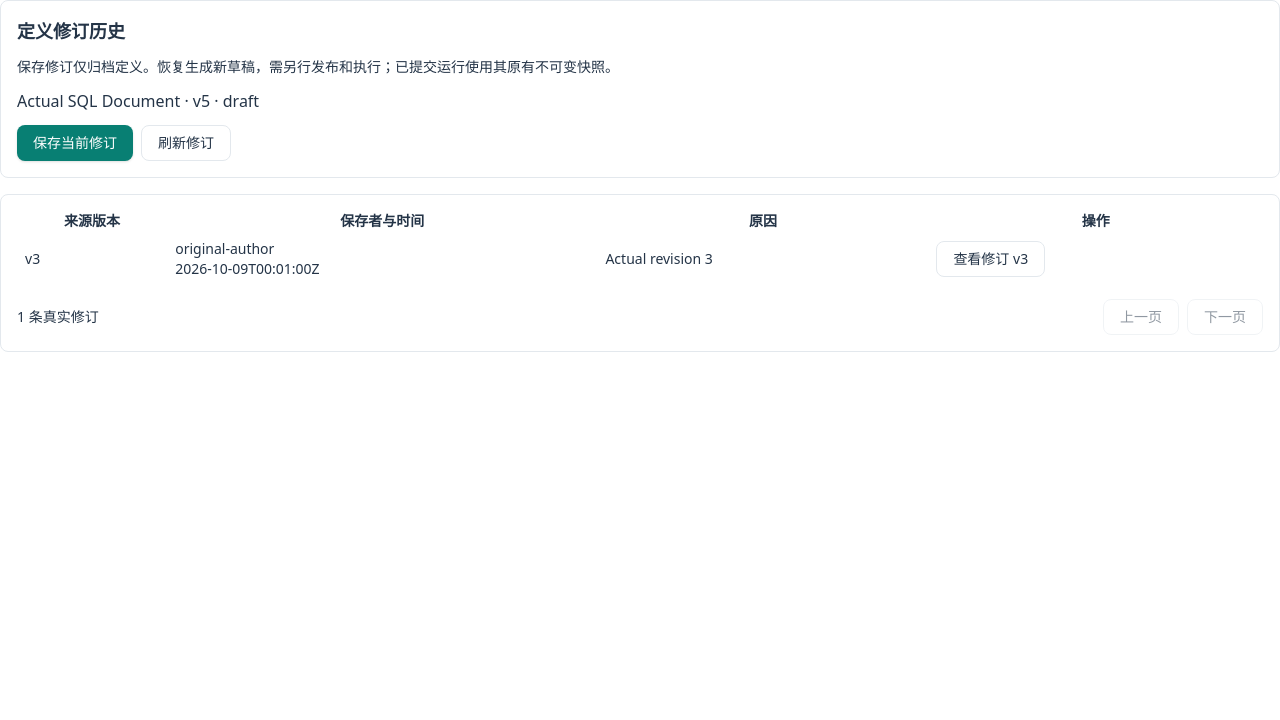
Test: actual development revision interactions › closing a pending save never reopens its dialog or exposes a late receipt
This screenshot has width=1280, height=720.
Expected: the text "Actual SQL Document · v5 · draft" is shown, [17,90,259,112]
Click the button "保存当前修订": click(75, 143) [17,125,133,161]
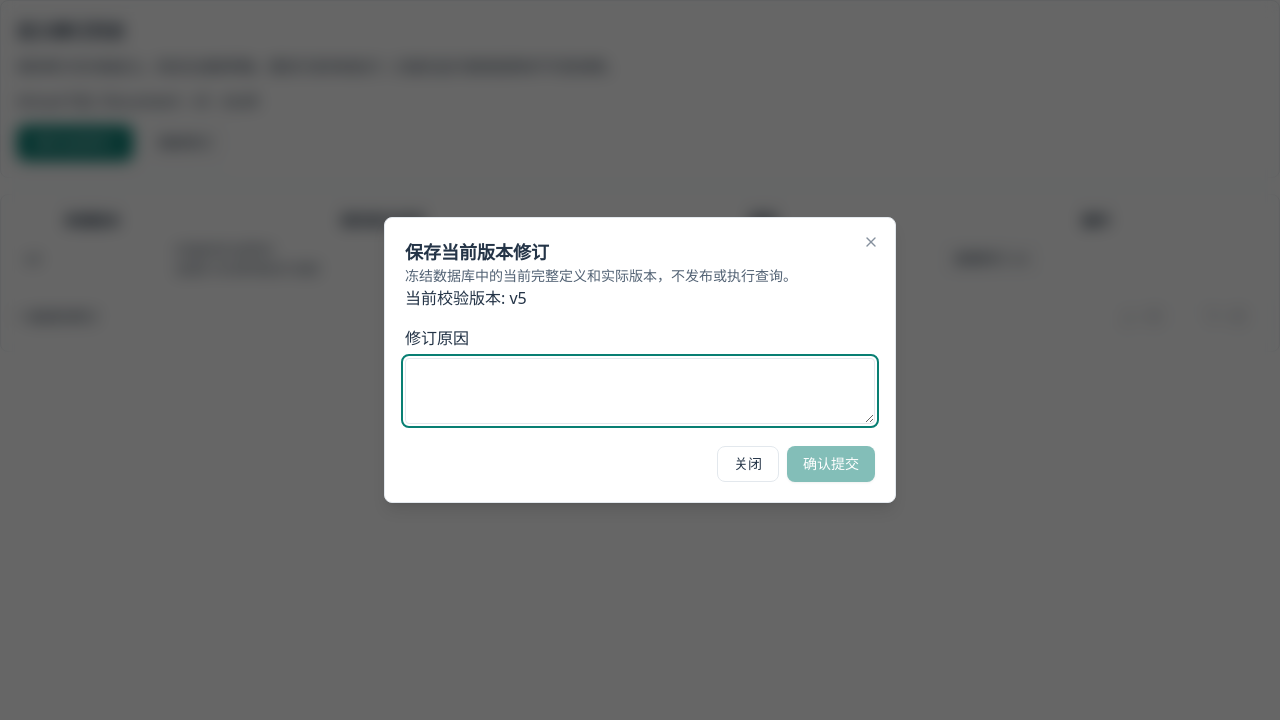
In the text box labelled "修订原因": (640, 391) [405,358,875,424], type "核对定义"
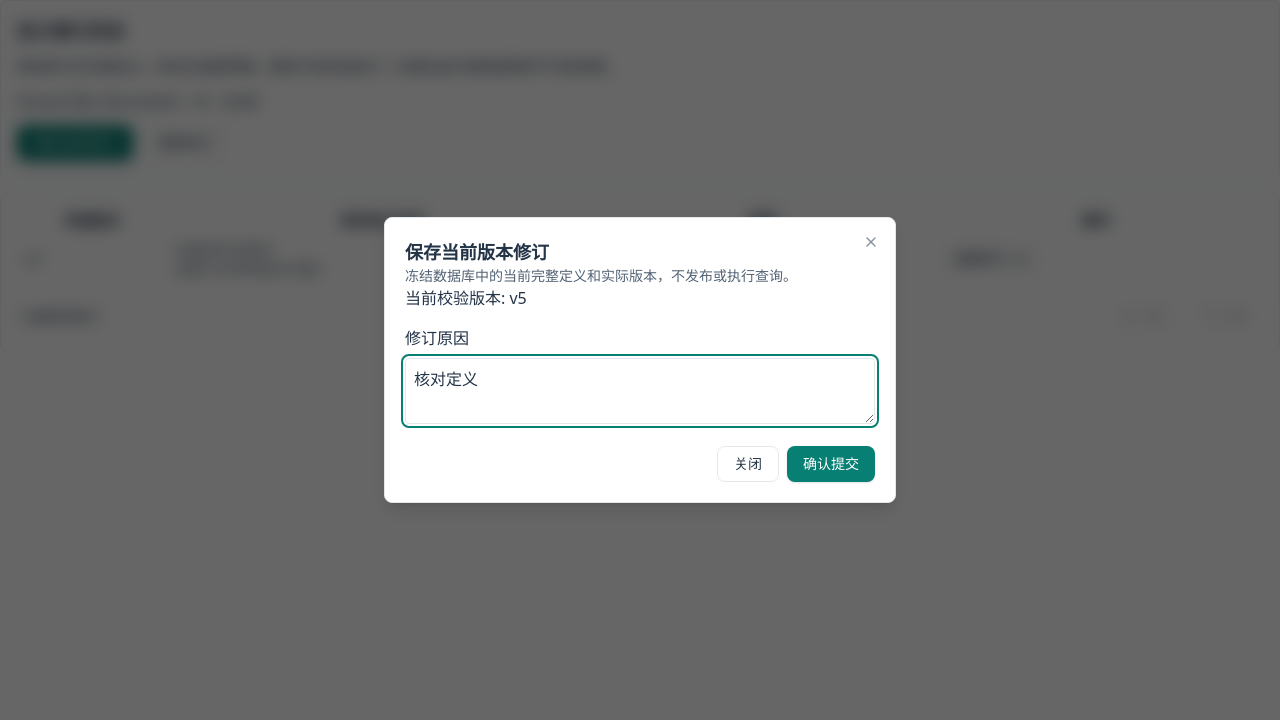
Click the button "确认提交": click(831, 464) [787,446,875,482]
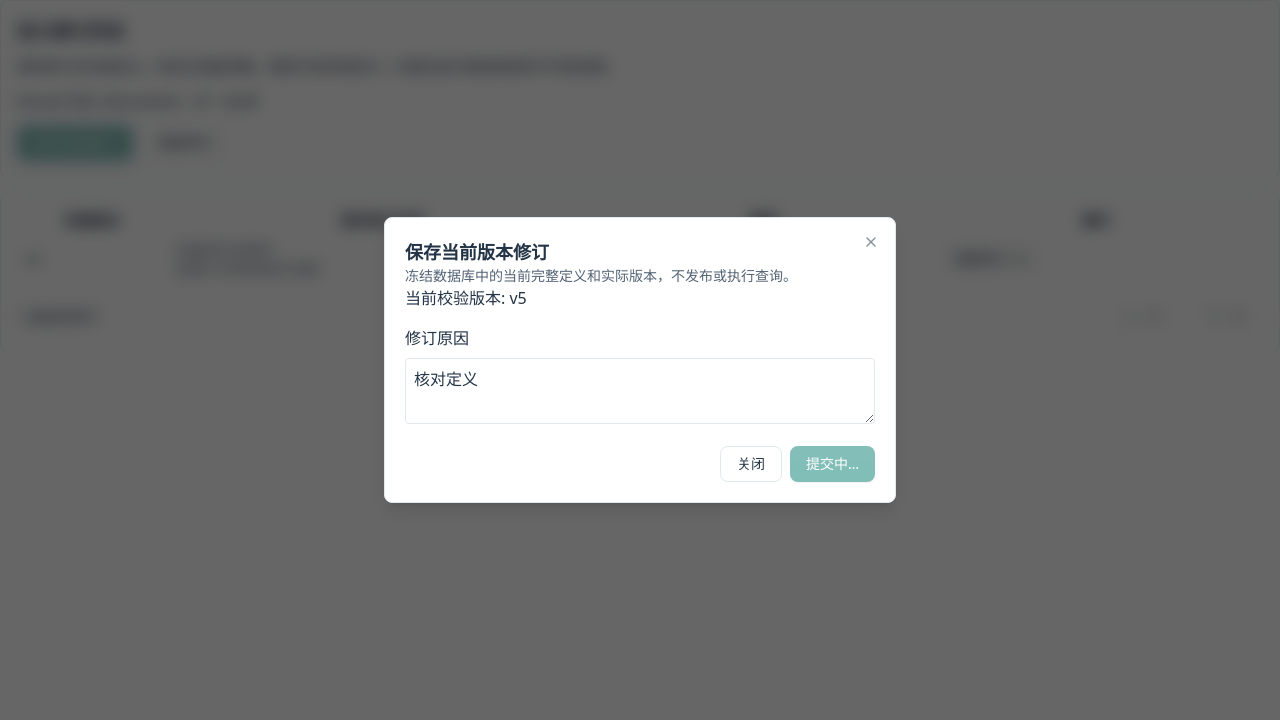
Click the button "关闭": click(751, 464) [720,446,782,482]
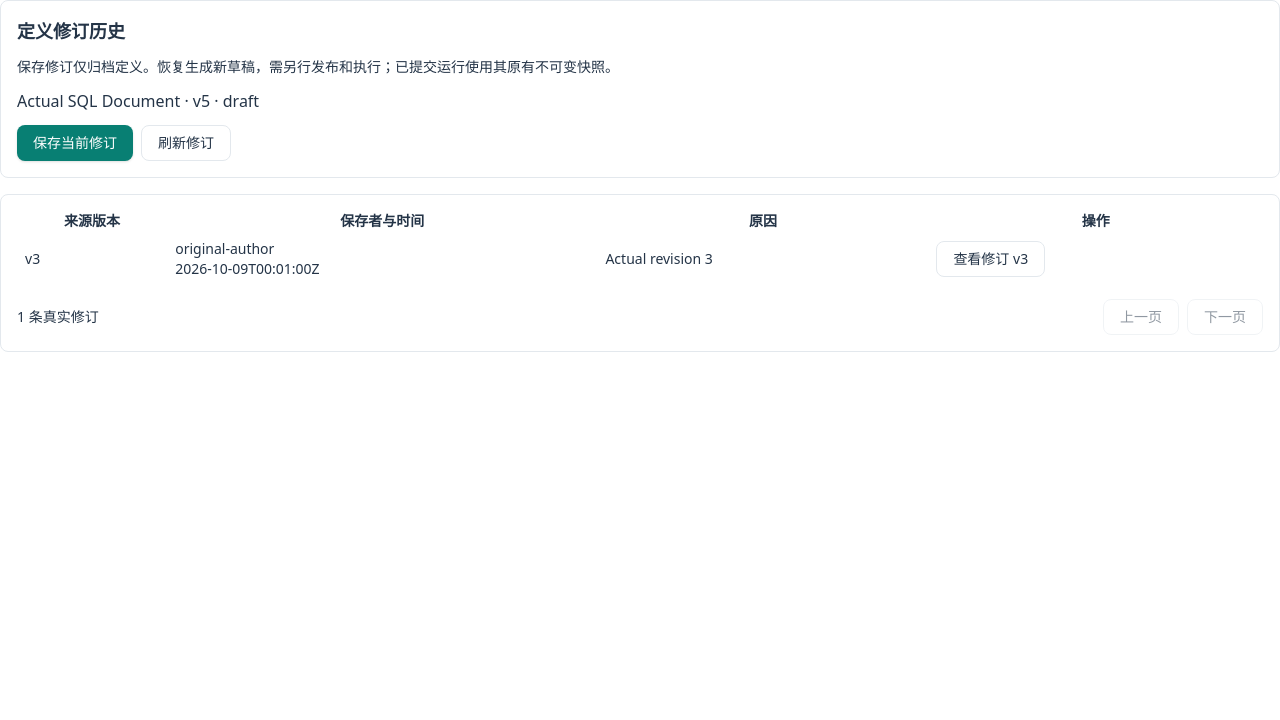
Expected: the dialog is gone
